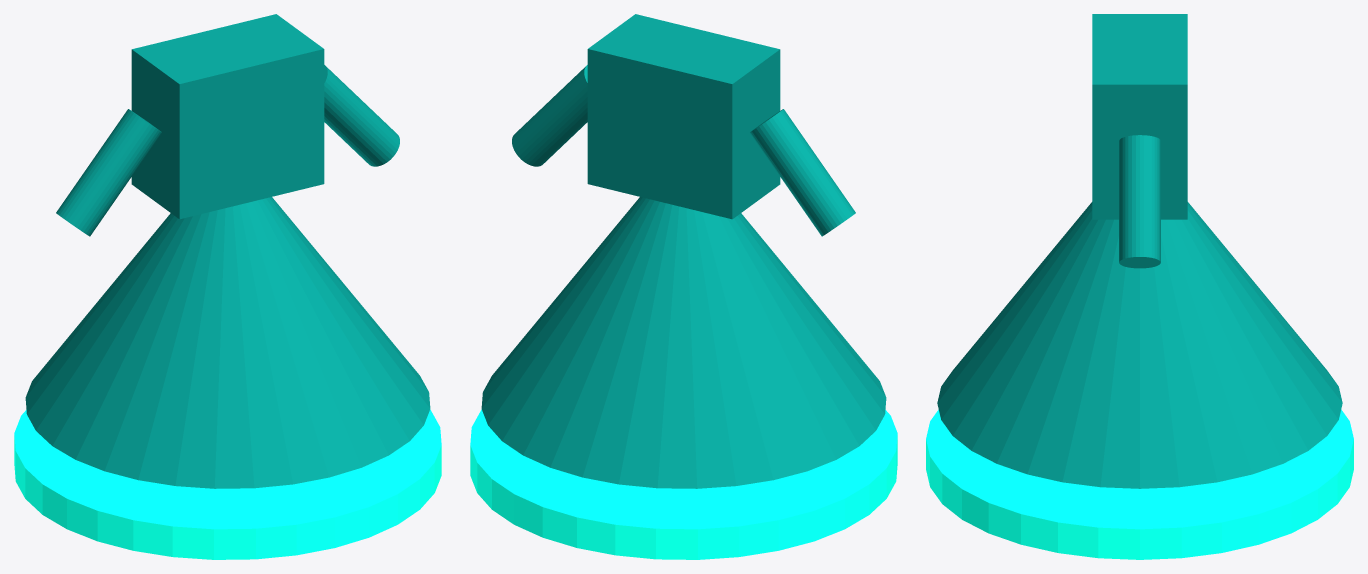
File: fashion_dress.dae
3 views of the same model, side by side, from view 1: azimuth 30°, elevation 25°; view 2: azimuth 150°, elevation 25°; view 3: azimuth 270°, elevation 25° (orthographic).
Parts seen in each view (by area): view 1: 06_14_Popular_Fashion_Dress_part_01, 06_14_Popular_Fashion_Dress_part_02, 06_14_Popular_Fashion_Dress_ROOT_base, 06_14_Popular_Fashion_Dress_part_03, 06_14_Popular_Fashion_Dress_part_04; view 2: 06_14_Popular_Fashion_Dress_part_01, 06_14_Popular_Fashion_Dress_part_02, 06_14_Popular_Fashion_Dress_ROOT_base, 06_14_Popular_Fashion_Dress_part_03, 06_14_Popular_Fashion_Dress_part_04; view 3: 06_14_Popular_Fashion_Dress_part_01, 06_14_Popular_Fashion_Dress_ROOT_base, 06_14_Popular_Fashion_Dress_part_02, 06_14_Popular_Fashion_Dress_part_04.
Part boxes in pixels (x1,y1,x2,y2): 06_14_Popular_Fashion_Dress_part_01: [25, 197, 430, 488]; 06_14_Popular_Fashion_Dress_part_02: [131, 14, 324, 219]; 06_14_Popular_Fashion_Dress_ROOT_base: [14, 409, 441, 559]; 06_14_Popular_Fashion_Dress_part_03: [56, 109, 162, 236]; 06_14_Popular_Fashion_Dress_part_04: [324, 65, 399, 166]; 06_14_Popular_Fashion_Dress_part_01: [481, 197, 886, 488]; 06_14_Popular_Fashion_Dress_part_02: [587, 14, 780, 219]; 06_14_Popular_Fashion_Dress_ROOT_base: [470, 409, 897, 559]; 06_14_Popular_Fashion_Dress_part_03: [749, 109, 855, 236]; 06_14_Popular_Fashion_Dress_part_04: [512, 65, 587, 166]; 06_14_Popular_Fashion_Dress_part_01: [937, 202, 1342, 488]; 06_14_Popular_Fashion_Dress_ROOT_base: [926, 410, 1353, 559]; 06_14_Popular_Fashion_Dress_part_02: [1092, 14, 1187, 219]; 06_14_Popular_Fashion_Dress_part_04: [1119, 135, 1160, 268].
Size of the model in its own units: 0.76 by 0.8235 by 0.76.
